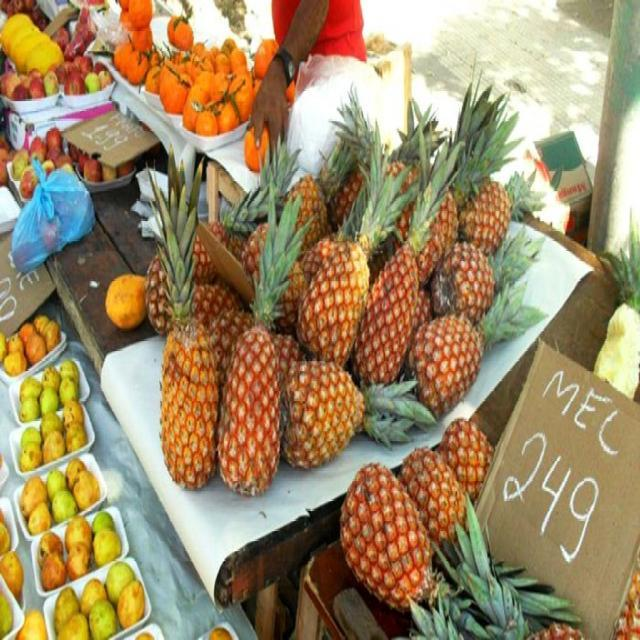Pineapple: (142, 49, 548, 505), (401, 441, 584, 639), (338, 459, 492, 635), (440, 410, 500, 494)
